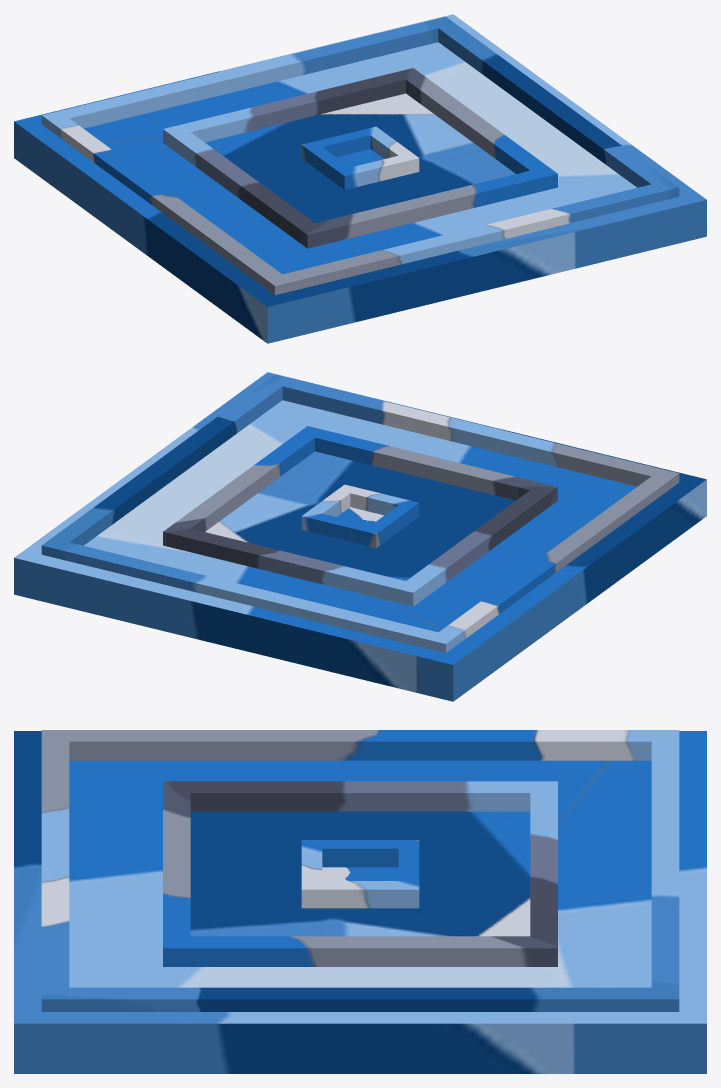
The model's file is Portal.fbx.
The picture shows the model from 3 angles, top to bottom: view 1: azimuth 30°, elevation 25°; view 2: azimuth 150°, elevation 25°; view 3: azimuth 270°, elevation 25°; orthographic projection. The views are drawn at different scales.
Parts seen in each view (by area): view 1: Box001; view 2: Box001; view 3: Box001.
Part boxes in pixels (x1,y1,x2,y2): Box001: (14, 14, 706, 343); Box001: (14, 372, 706, 701); Box001: (14, 730, 706, 1073).
Size of the model in its own units: 1 by 0.1 by 1.
